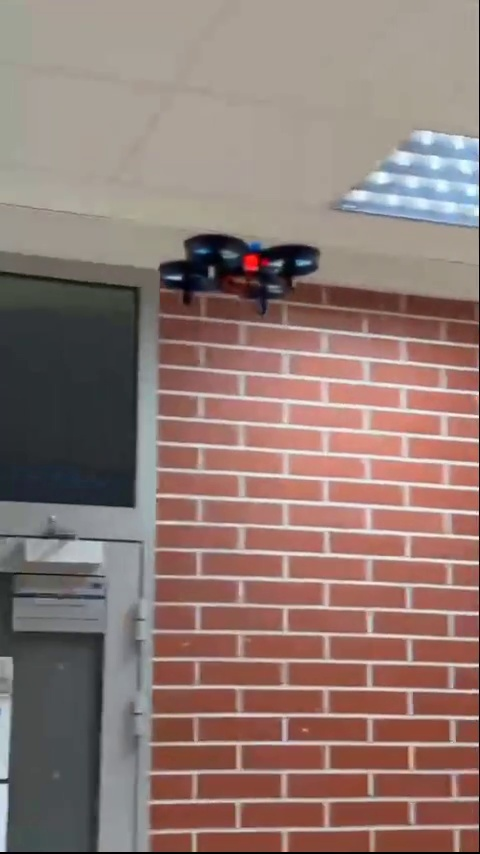drone: (153, 234, 322, 312)
